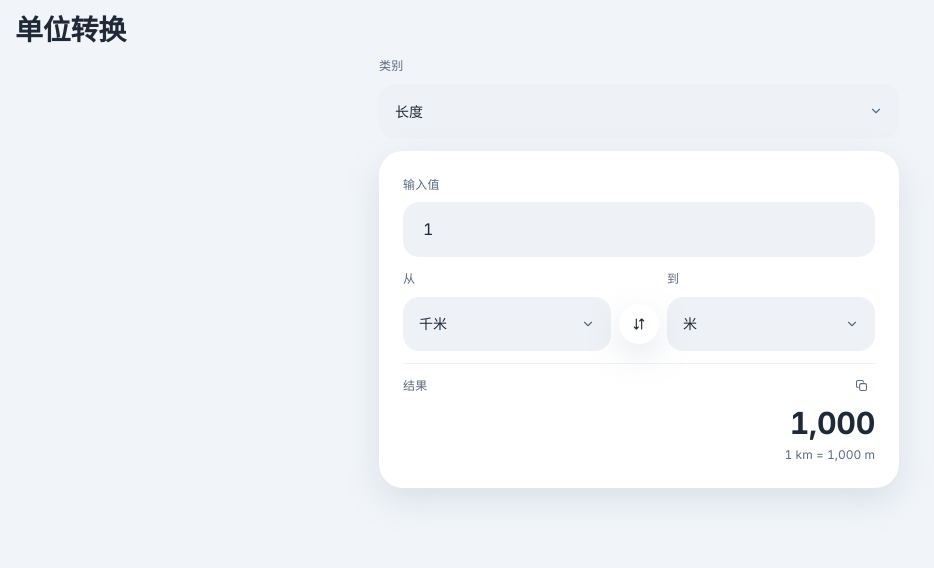
Test case: ConverterPage › shows the ECB source and converts with cached rates
Click the dropdown named "类别" at (409, 111), box [379,84,899,139]
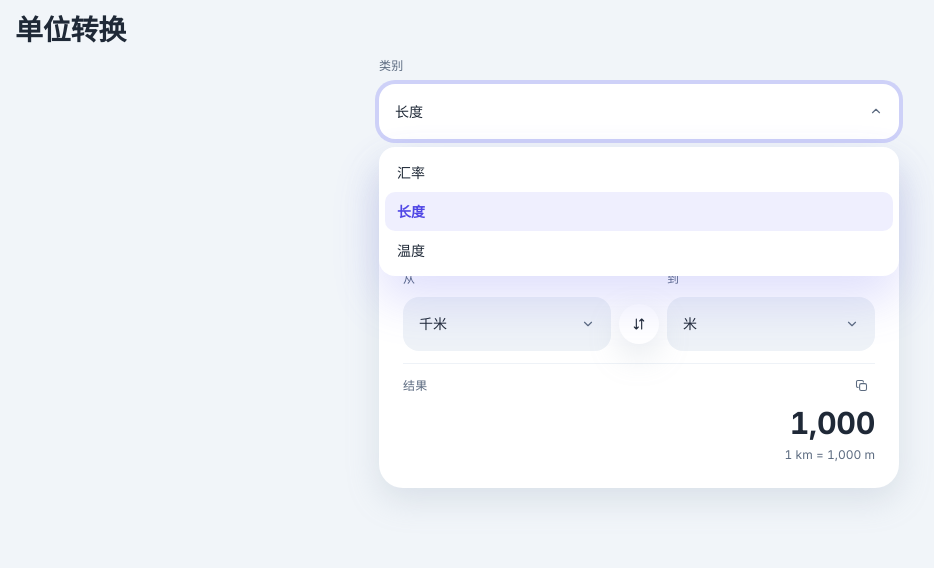
Click the option "汇率" at (411, 172), box [397,164,425,181]
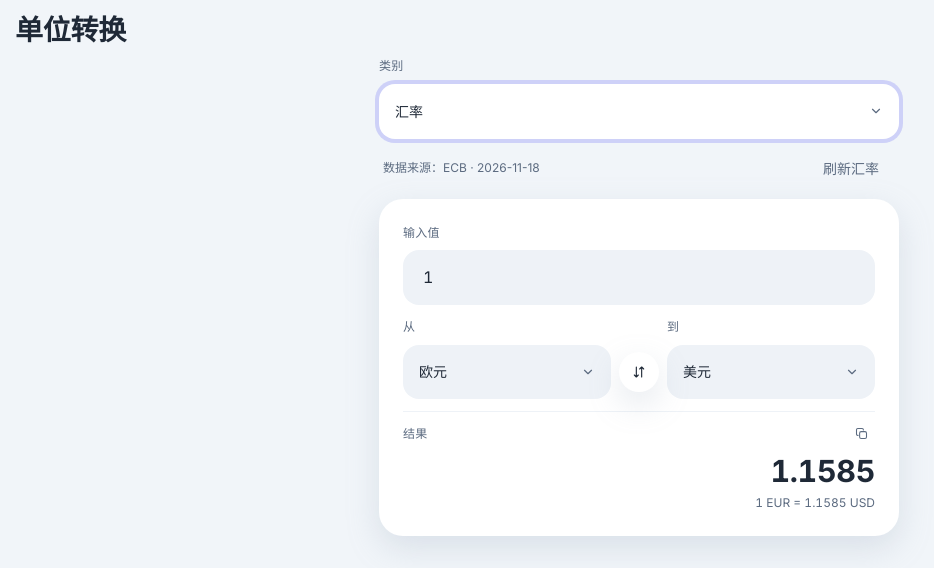
expect the element with test id "currency-rate-bar" shows "2026-11-18": met, box [383,160,540,175]
